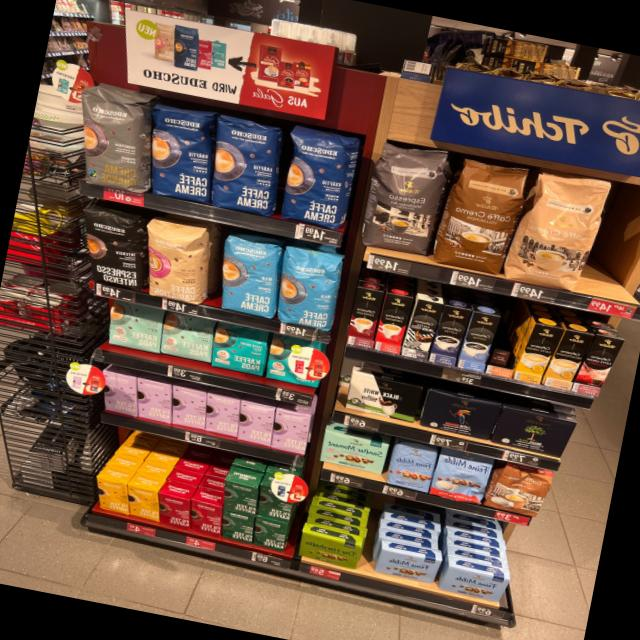BM Gemahlen: (491, 406, 576, 459)
BW Gemahlen: (340, 371, 425, 426)
CC Mild: (508, 164, 617, 296)
CC Vollmundig: (484, 460, 558, 520)
CC Vollmundig 36 Pads: (430, 152, 534, 278)
Empty Shelf: (488, 315, 531, 371)
FM 36 Pads: (428, 448, 493, 507)
FM Bohne: (382, 439, 440, 493)
FM Gemahlen: (437, 560, 514, 605), (370, 544, 444, 586)
Herzhatfe Mundig: (294, 530, 365, 570)
LG Gemahlen: (418, 388, 498, 442)
SM Gemahlen: (316, 426, 392, 474)
Simo CC Colombia: (571, 334, 625, 397)
Simo CCMild bigpack: (513, 324, 564, 384)
Simo Decaff: (541, 330, 594, 390)
Simo Es Brazil: (374, 292, 413, 354)
Simo Es Caramel: (347, 286, 384, 349)
Simo Es Elegant: (401, 299, 444, 360)
Simo Es Kraft: (428, 305, 472, 366)
Simo Es Vanilla: (457, 312, 500, 373)
